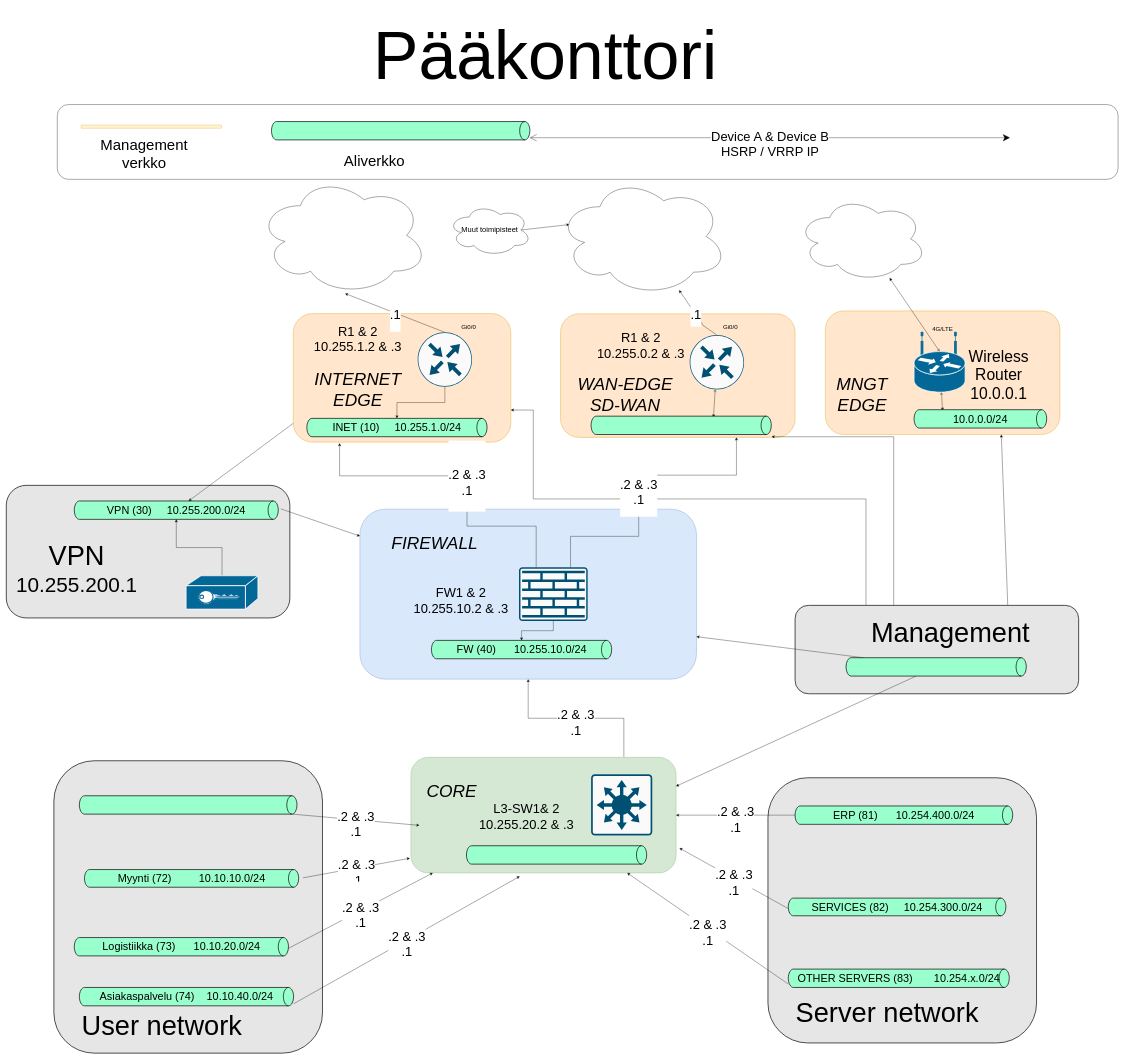
The diagram is 1124 pixels wide and 1059 high, and some of its shapes have lost their labels. The centre of each missing label's shape, as x and y in pixels:
CORE (60) 10.255.20.0/24: point (556, 854)
Internet ISP: point (343, 235)
ISP 2: point (862, 238)
MGMT (50) 10.150.0.0/24: point (936, 666)
MPLS ISP: point (642, 236)
Taloushallinto (71) 10.10.30.0/24: point (188, 804)
VLAN NIMI (VLAN ID) IP subnet: point (400, 130)
WAN (20) 10.255.0.0/24: point (681, 425)
